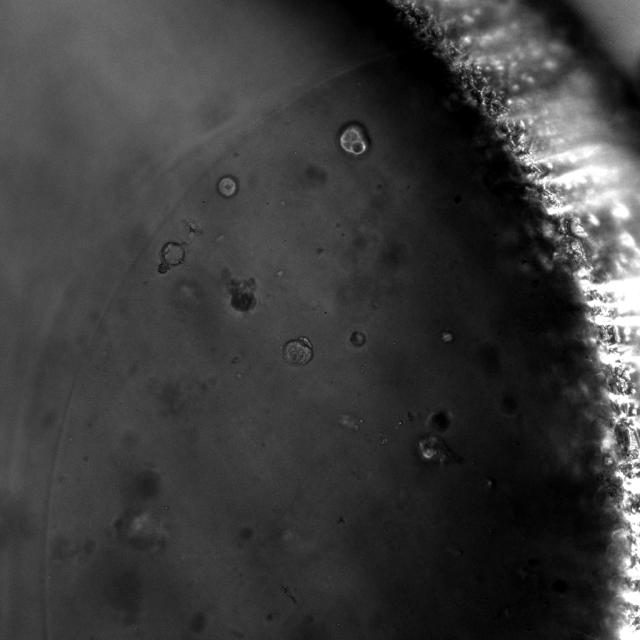organoid: (418, 410, 454, 464), (339, 121, 370, 157), (228, 278, 256, 312), (158, 241, 185, 273), (283, 336, 312, 365), (217, 174, 239, 198), (349, 330, 366, 347)
